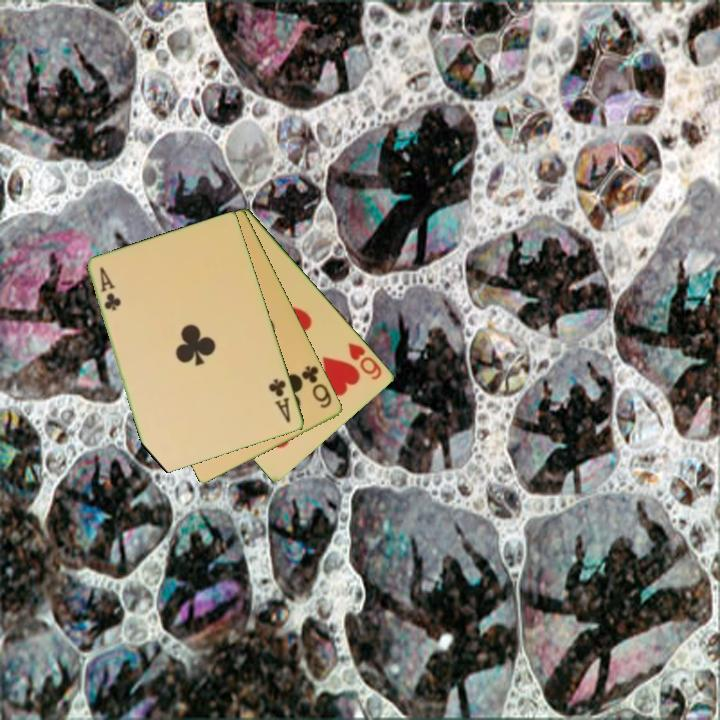6c: (298, 362, 335, 411)
6h: (345, 339, 385, 383)
Ac: (265, 375, 294, 426), (96, 263, 123, 314)
